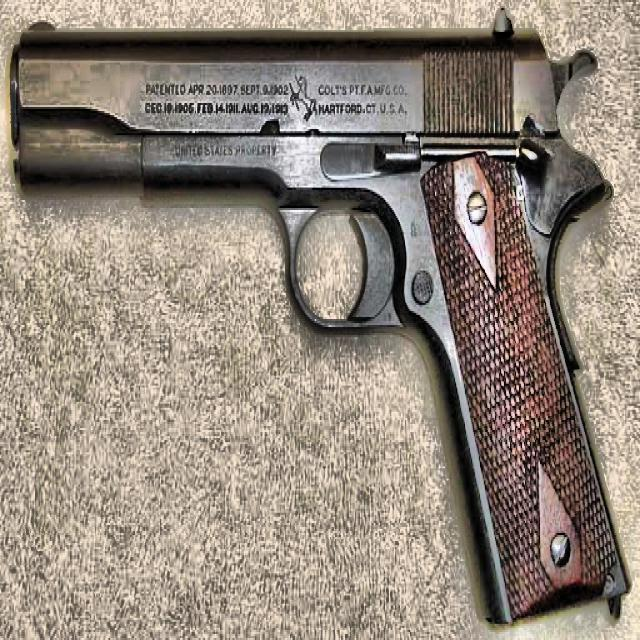Colt m1911: (8, 6, 630, 628)
